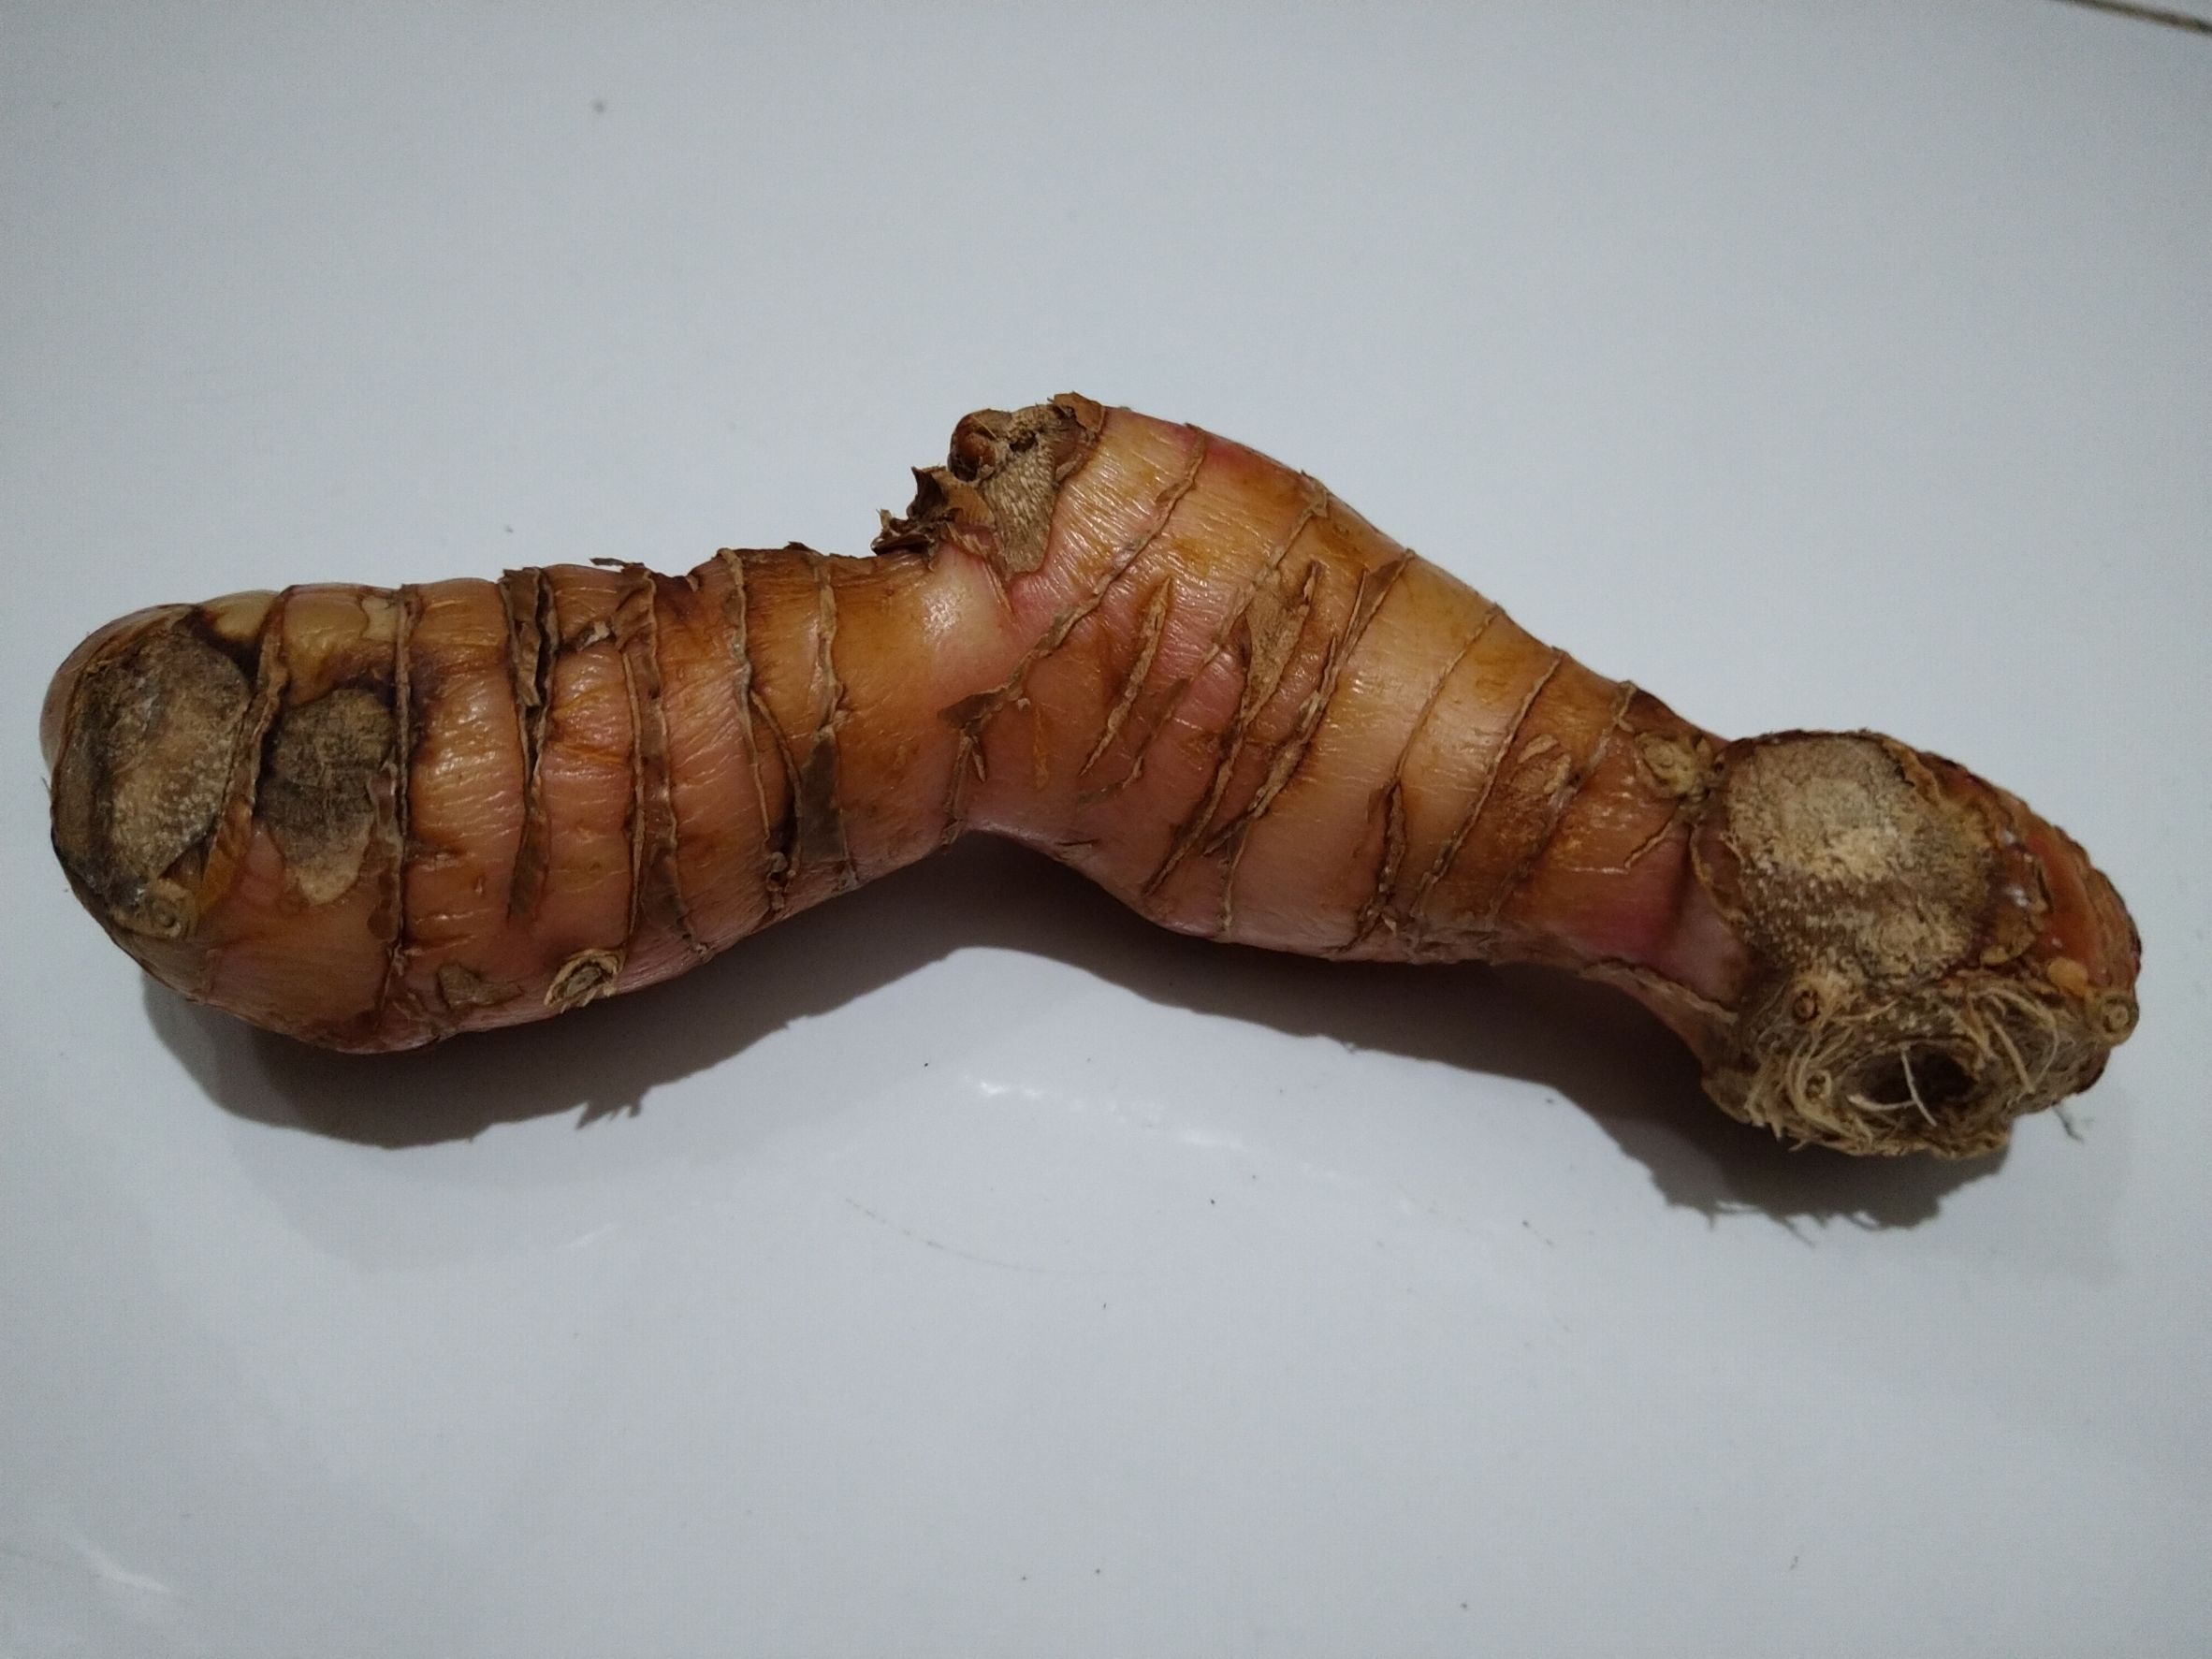Lengkuas: (45, 401, 2144, 1229)
